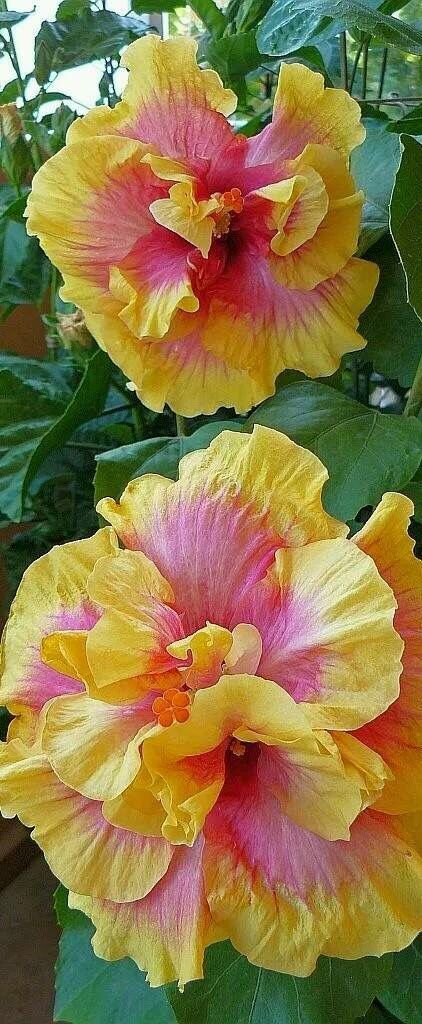Hibiscus: (1, 429, 418, 994), (21, 17, 398, 417)
